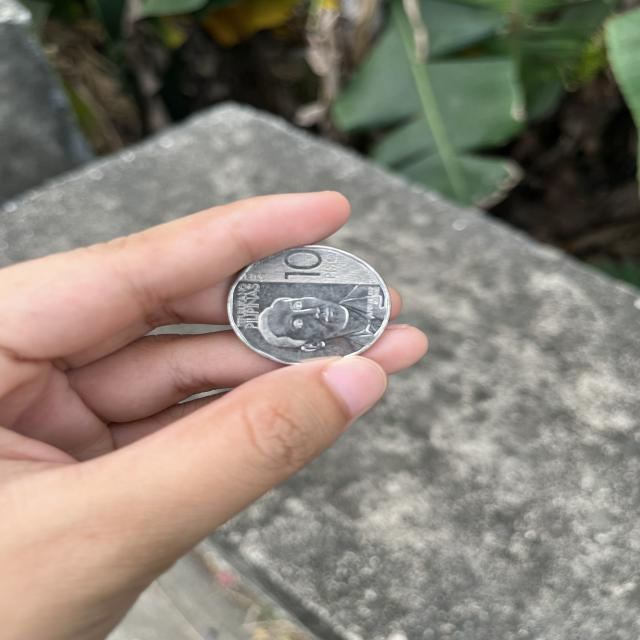10_New_Front: (280, 250, 345, 282)
